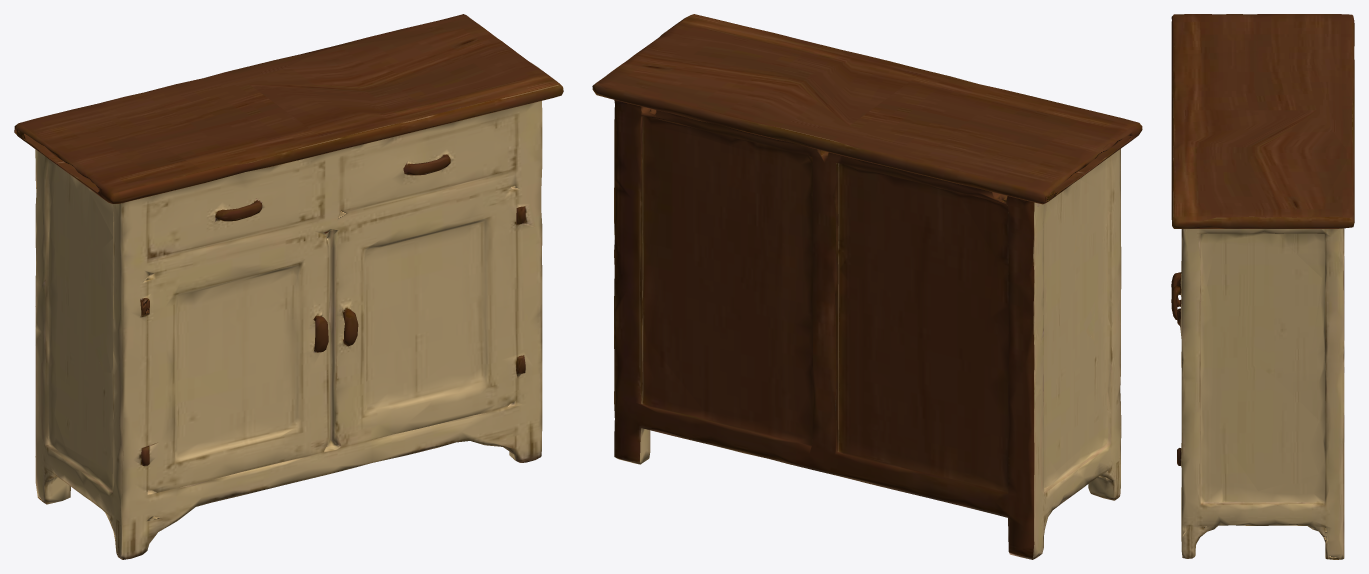
The model's file is aparador.glb.
3 views of the same model, side by side, from view 1: azimuth 30°, elevation 25°; view 2: azimuth 150°, elevation 25°; view 3: azimuth 270°, elevation 25° (orthographic). The views are drawn at different scales.
Visible parts, largest first — view 1: geometry_0; view 2: geometry_0; view 3: geometry_0.
Part boxes in pixels (<box>): geometry_0: <box>14,14,563,559</box>; geometry_0: <box>592,14,1142,559</box>; geometry_0: <box>1171,14,1354,559</box>.
Size of the model in its own units: 1.2 by 0.95 by 0.45.
Materials: 1 (1 with a texture image).
